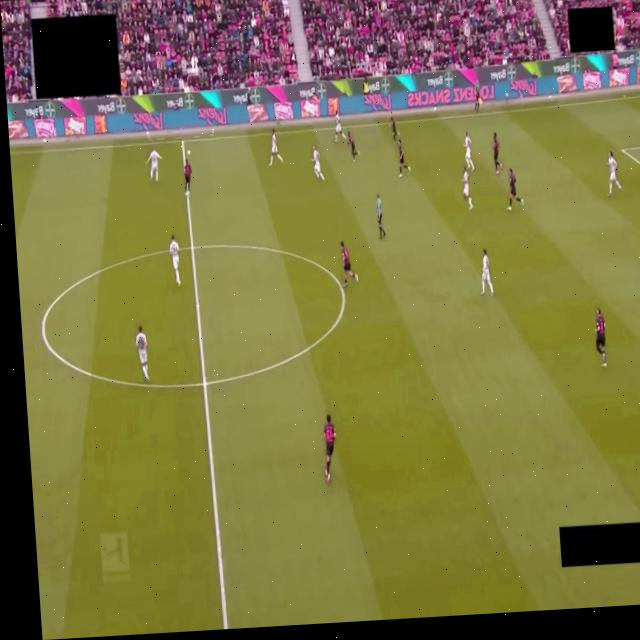ball: (187, 150, 190, 156)
player: (323, 414, 335, 483), (340, 242, 357, 287), (135, 326, 148, 381), (595, 309, 606, 368), (607, 152, 621, 196), (508, 169, 523, 210), (481, 249, 493, 297), (169, 236, 180, 286), (269, 129, 282, 166), (146, 150, 160, 182), (398, 140, 410, 177), (462, 166, 472, 210), (492, 132, 502, 174), (312, 146, 323, 181), (463, 133, 473, 171), (347, 132, 359, 162), (334, 114, 345, 142), (184, 160, 191, 196), (390, 113, 398, 143), (637, 210, 640, 260)
referee: (375, 193, 386, 240)
